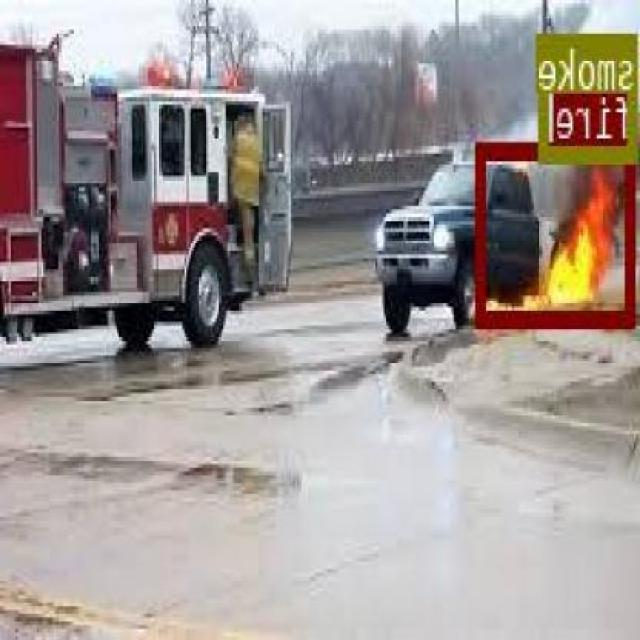Fire: (479, 142, 636, 322)
Smoke: (540, 30, 640, 159)
